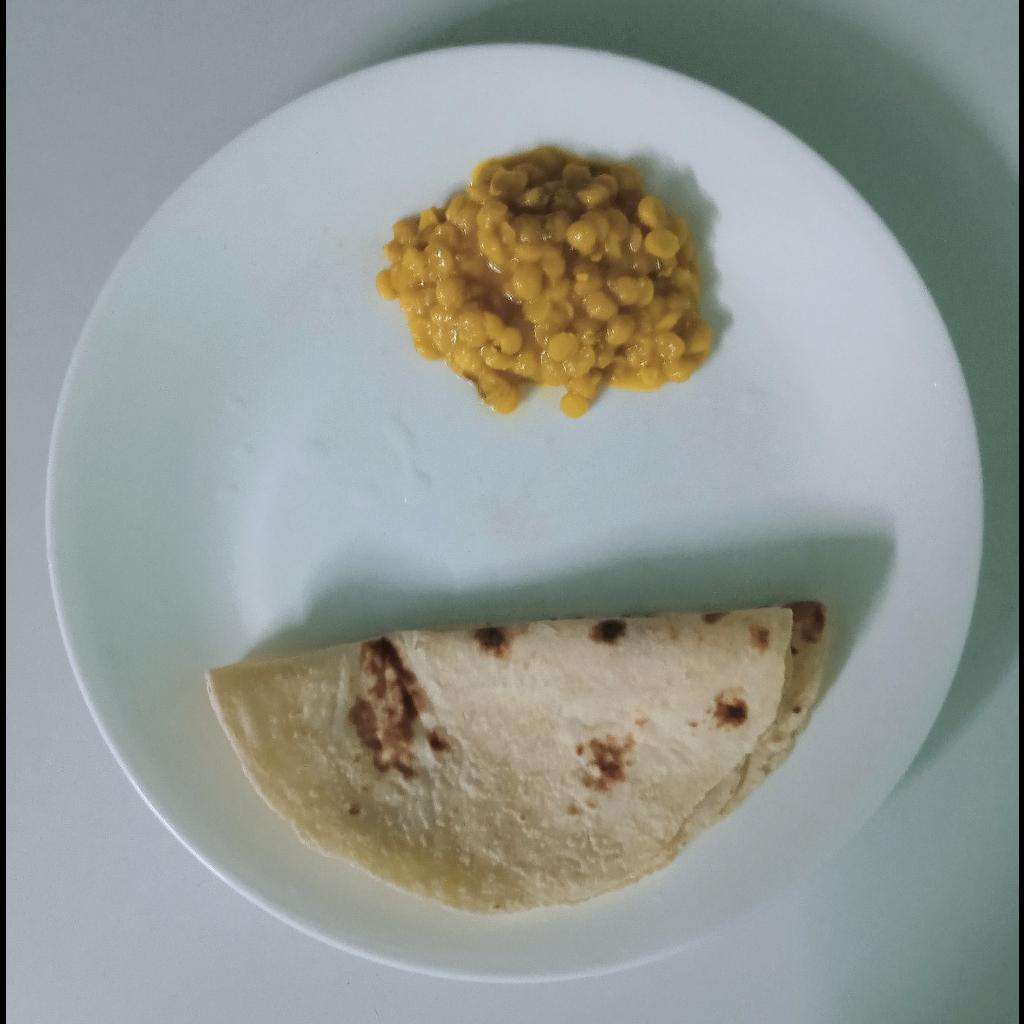daal: (376, 143, 716, 415)
ruti: (208, 602, 826, 914)
